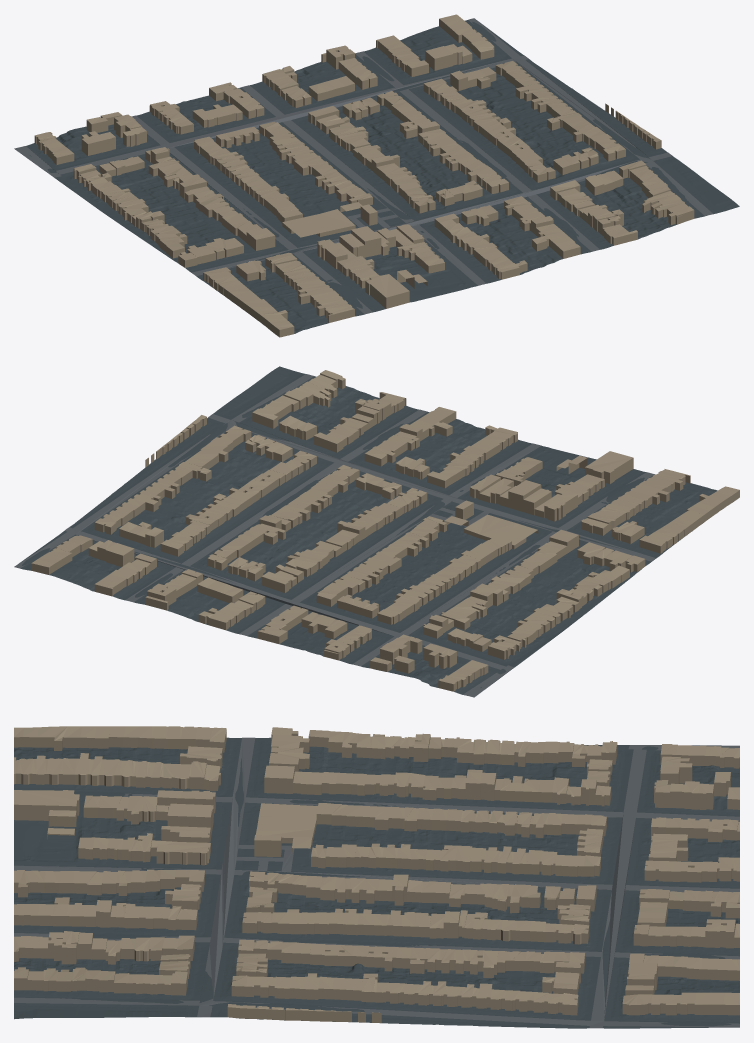
File: epsg26910-1416-10882.lod0.glb
3 views of the same model, one above another, from view 1: azimuth 30°, elevation 25°; view 2: azimuth 150°, elevation 25°; view 3: azimuth 270°, elevation 25° (orthographic). The views are drawn at different scales.
Parts seen in each view (by area): view 1: epsg26910-1416-10882-lod0; view 2: epsg26910-1416-10882-lod0; view 3: epsg26910-1416-10882-lod0.
Part boxes in pixels (x1,y1,x2,y2): epsg26910-1416-10882-lod0: [14, 14, 739, 337]; epsg26910-1416-10882-lod0: [14, 366, 739, 697]; epsg26910-1416-10882-lod0: [14, 726, 739, 1028].
Bounding box in the file's own units: 384 × 26.63 × 384.
